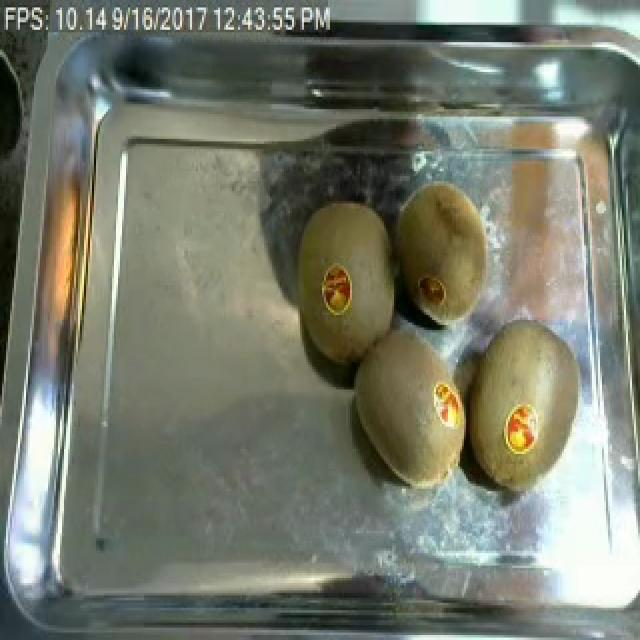Fruit: (342, 315, 478, 501), (280, 184, 406, 377), (390, 166, 506, 340)
